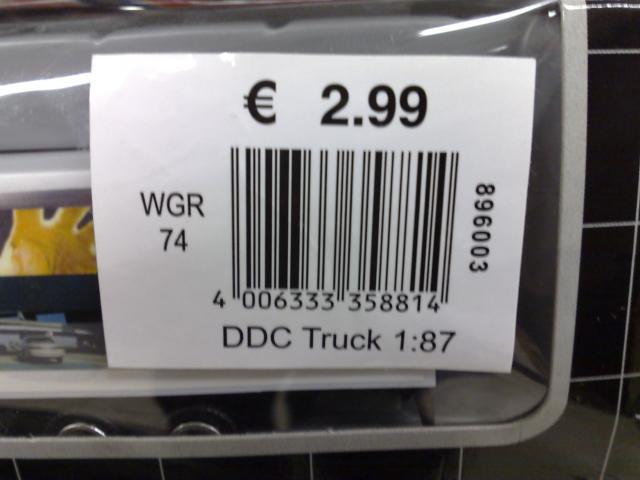Barkod: (224, 145, 457, 288)
